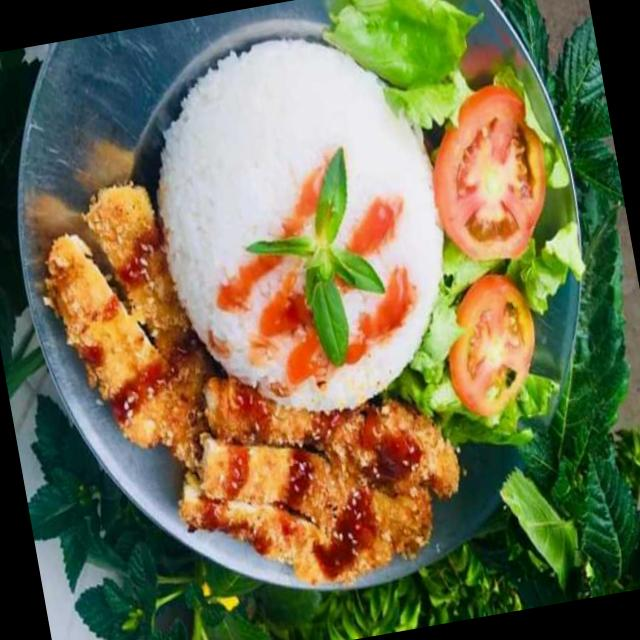ca chua: (433, 86, 546, 258), (448, 274, 535, 414)
com: (158, 39, 443, 410)
ga chien: (45, 186, 460, 583)
